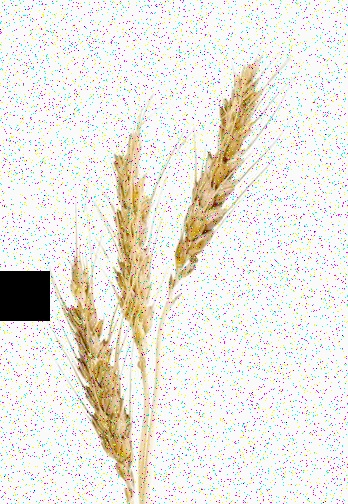wheat: (164, 37, 301, 330), (32, 241, 138, 487), (109, 110, 155, 376)
